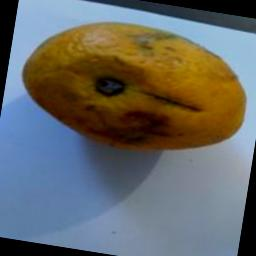Orange Overripe: (9, 0, 256, 180)
